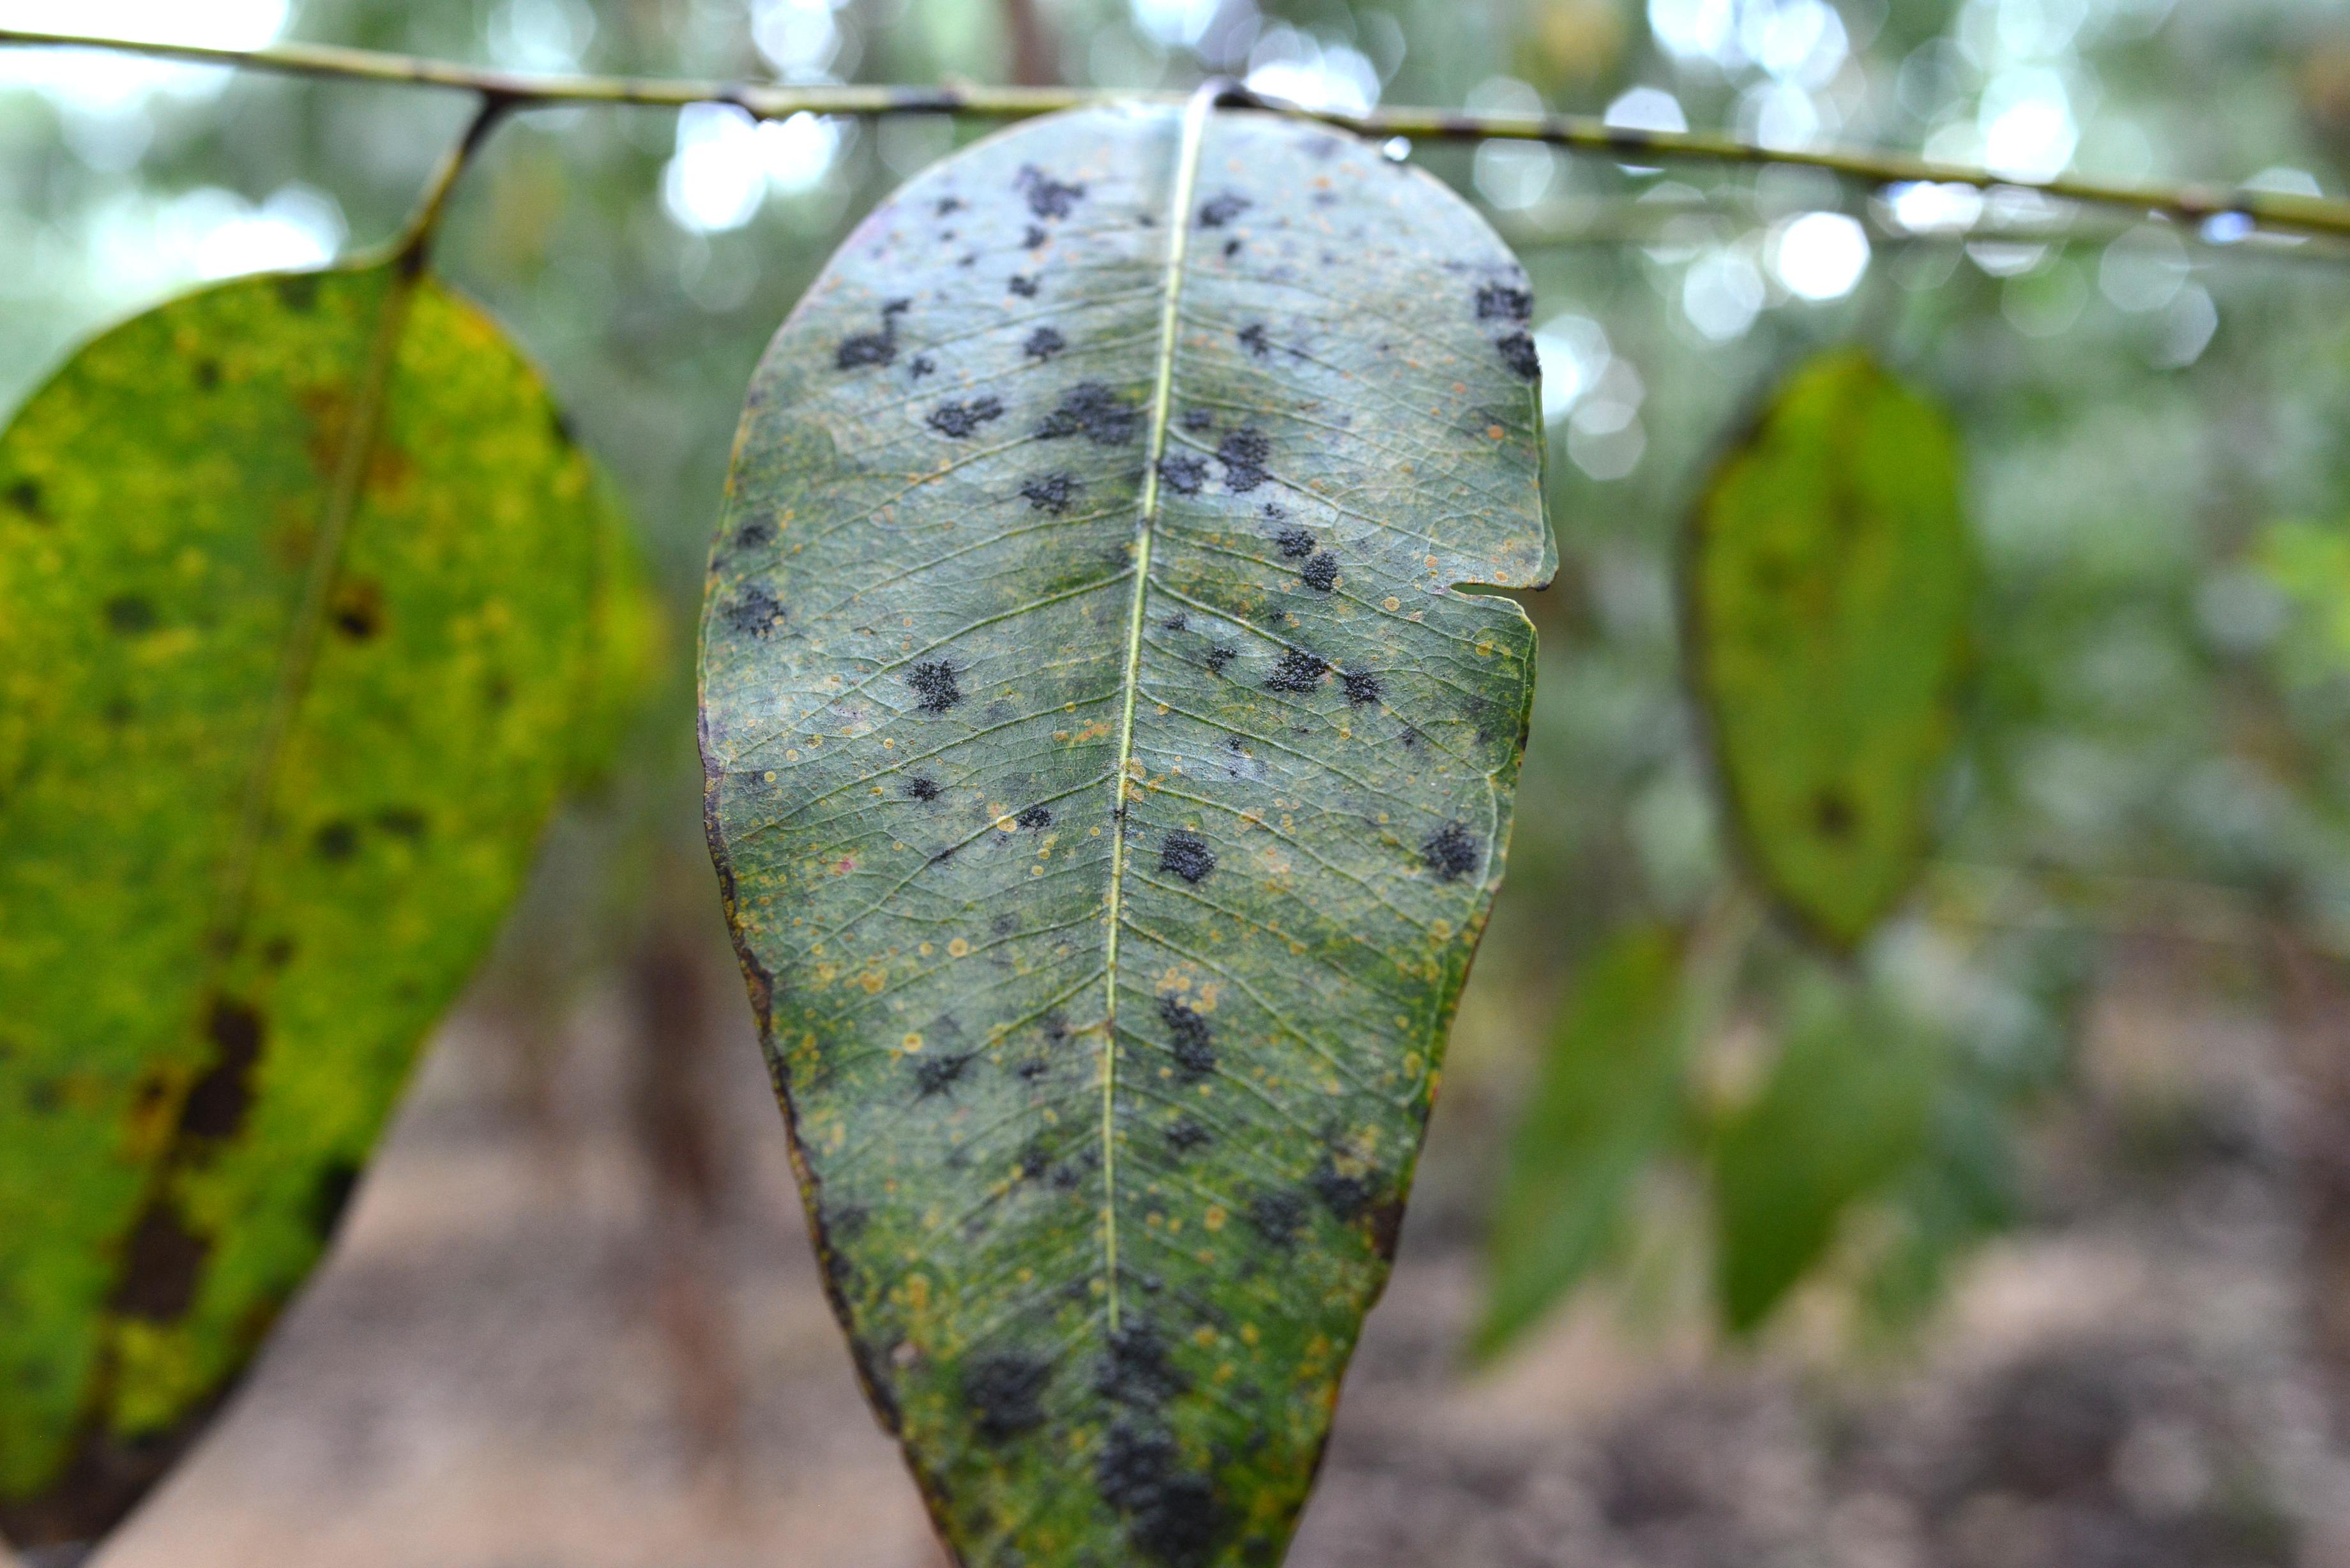Embun Jelaga: (709, 107, 1563, 1568), (0, 243, 614, 1564), (1675, 343, 1951, 969)
